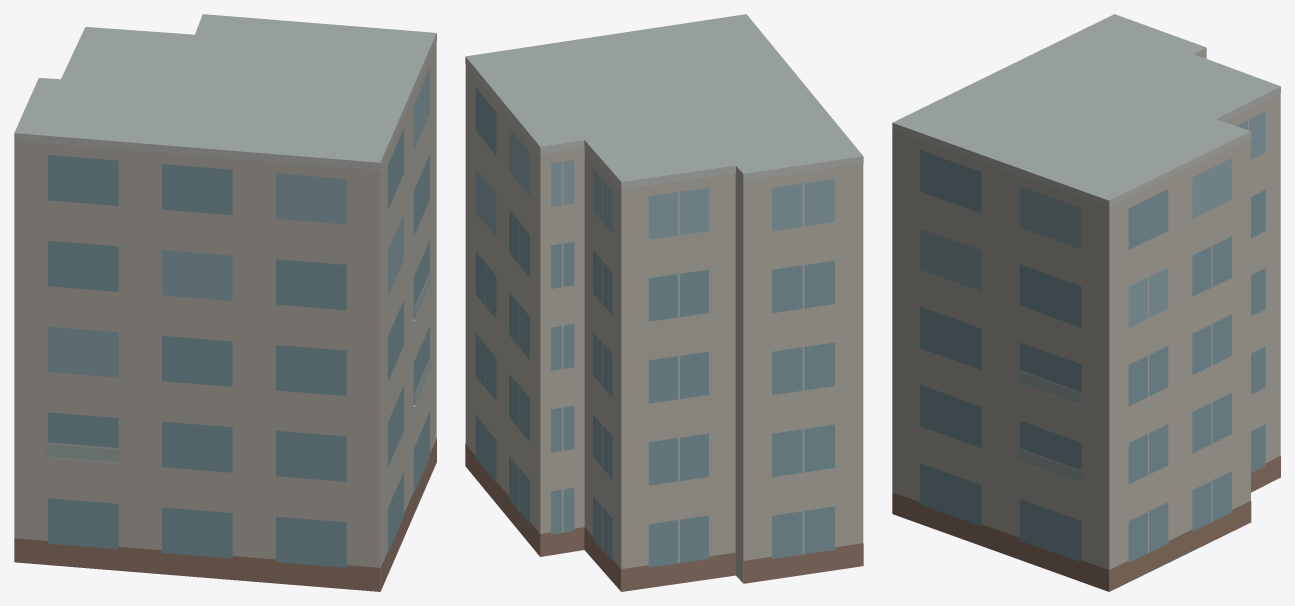
Rendered from survey-upis-32615347.glb.
The picture shows the model from 3 angles, left to right: view 1: azimuth 30°, elevation 25°; view 2: azimuth 150°, elevation 25°; view 3: azimuth 270°, elevation 25°; orthographic projection. The views are drawn at different scales.
Parts seen in each view (by area): view 1: survey-upis-32615347.tmp; view 2: survey-upis-32615347.tmp; view 3: survey-upis-32615347.tmp.
Part boxes in pixels (box(x1,y1,x2,y2)): survey-upis-32615347.tmp: box(14, 14, 436, 591); survey-upis-32615347.tmp: box(465, 14, 863, 591); survey-upis-32615347.tmp: box(892, 14, 1280, 591).
Bounding box in the file's own units: 13.87 × 13.55 × 12.2.
